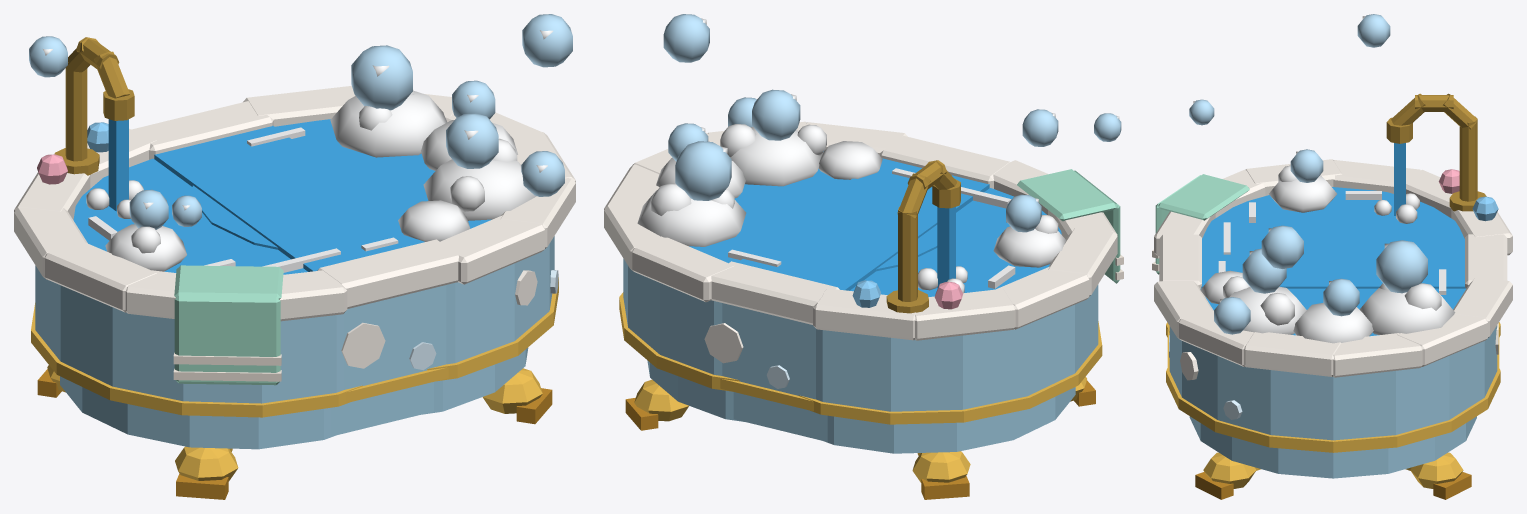
File: CleanACat_Station_Tub.fbx
3 views of the same model, side by side, from view 1: azimuth 30°, elevation 25°; view 2: azimuth 150°, elevation 25°; view 3: azimuth 270°, elevation 25° (orthographic). The views are drawn at different scales.
Visible parts, largest first — view 1: CleanACat_Station_Tub, CleanACat_Station_Tub_Water, CleanACat_Station_Tub_Foam, CleanACat_Station_Tub_Bubbles, CleanACat_Station_Tub_Stream; view 2: CleanACat_Station_Tub, CleanACat_Station_Tub_Water, CleanACat_Station_Tub_Foam, CleanACat_Station_Tub_Bubbles, CleanACat_Station_Tub_Stream; view 3: CleanACat_Station_Tub, CleanACat_Station_Tub_Water, CleanACat_Station_Tub_Foam, CleanACat_Station_Tub_Bubbles, CleanACat_Station_Tub_Stream.
Boxes of the visible parts, x1=… form: CleanACat_Station_Tub: x1=14, y1=37, x2=575, y2=499; CleanACat_Station_Tub_Water: x1=73, y1=119, x2=491, y2=274; CleanACat_Station_Tub_Foam: x1=86, y1=90, x2=536, y2=271; CleanACat_Station_Tub_Bubbles: x1=29, y1=14, x2=572, y2=229; CleanACat_Station_Tub_Stream: x1=108, y1=119, x2=128, y2=211; CleanACat_Station_Tub: x1=604, y1=121, x2=1123, y2=499; CleanACat_Station_Tub_Water: x1=689, y1=151, x2=1061, y2=296; CleanACat_Station_Tub_Foam: x1=637, y1=124, x2=1066, y2=293; CleanACat_Station_Tub_Bubbles: x1=663, y1=14, x2=1121, y2=232; CleanACat_Station_Tub_Stream: x1=937, y1=207, x2=955, y2=288; CleanACat_Station_Tub: x1=1152, y1=93, x2=1512, y2=499; CleanACat_Station_Tub_Water: x1=1200, y1=187, x2=1465, y2=336; CleanACat_Station_Tub_Foam: x1=1200, y1=165, x2=1455, y2=343; CleanACat_Station_Tub_Bubbles: x1=1189, y1=14, x2=1427, y2=334; CleanACat_Station_Tub_Stream: x1=1394, y1=143, x2=1405, y2=215.
Bounding box in the file's own units: 6.05 × 4.59 × 4.64.
Materials: 1 (1 with a texture image).
